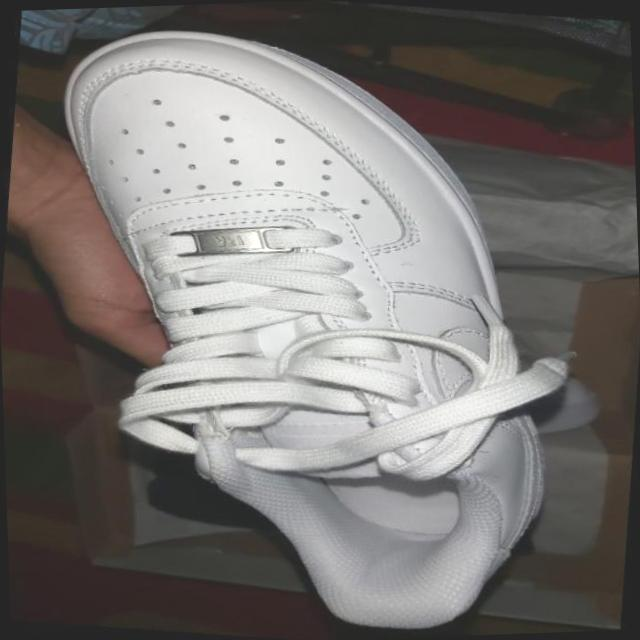nike_fake_airforce: (6, 3, 605, 640)
